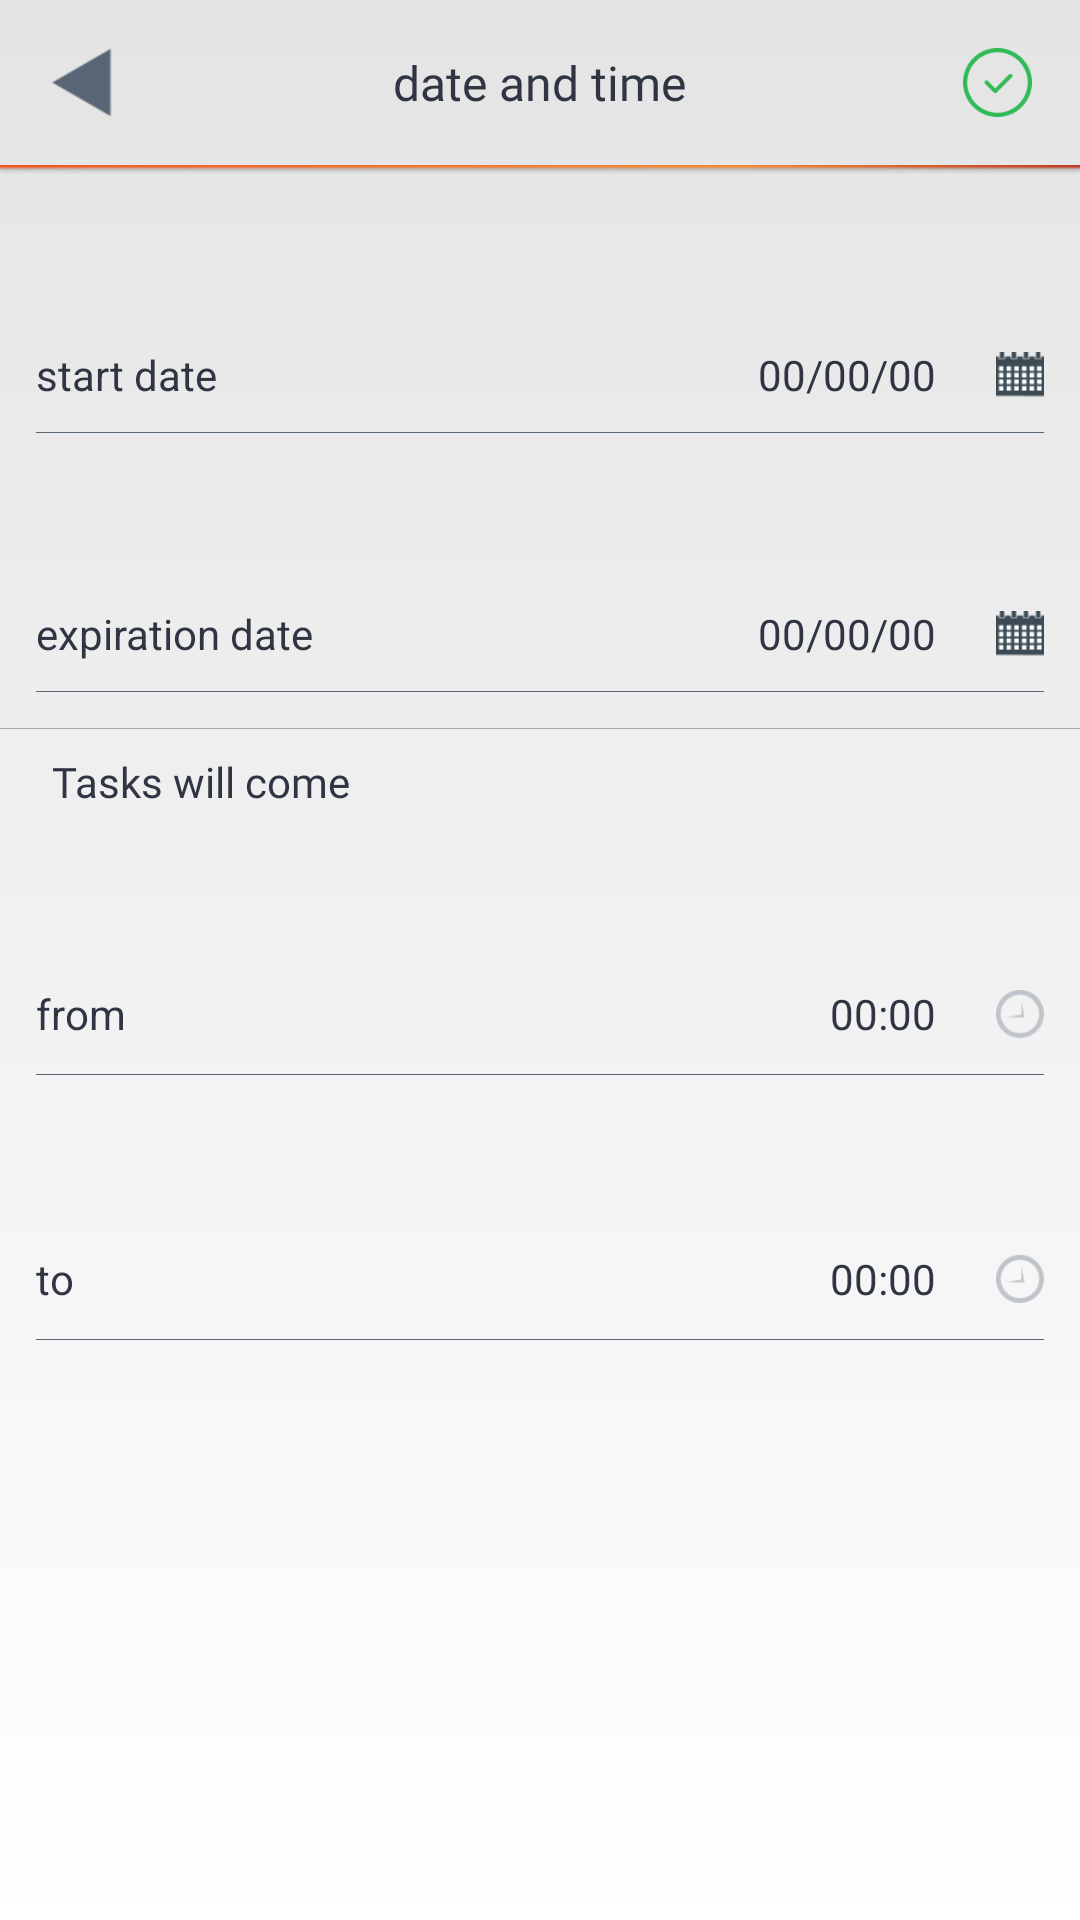

Icon bounding boxes for this 1080×1920 phone screenshot, format (x1, y1, x2, y2):
calendar: (996, 352, 1044, 397), (996, 611, 1044, 656)
setting back: (52, 49, 111, 116)
time: (996, 990, 1044, 1038), (996, 1255, 1044, 1303)
